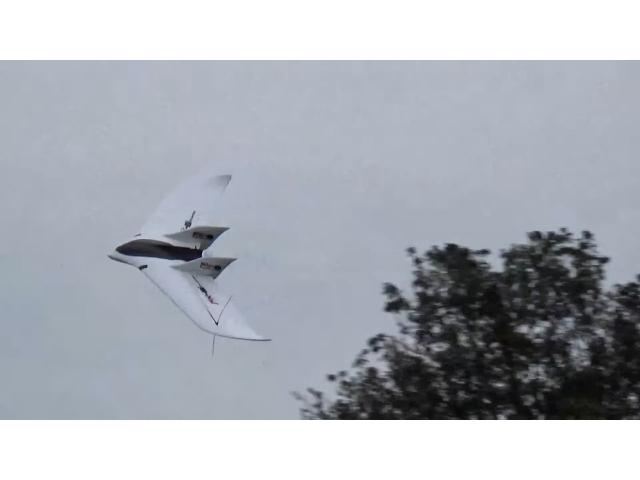Anti-Drone: (109, 175, 269, 341)
